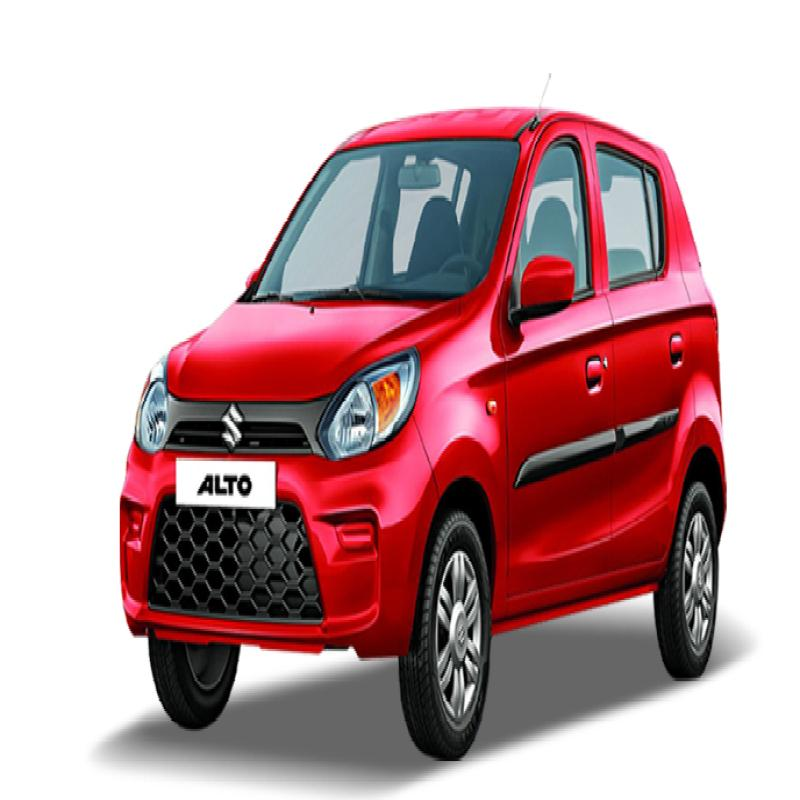car: (127, 100, 714, 725)
